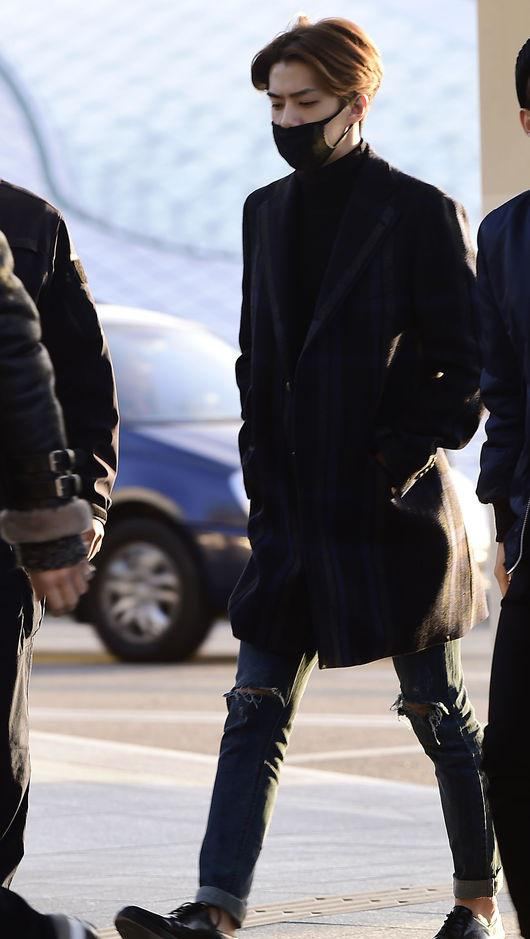WRONG: (257, 77, 351, 171)
